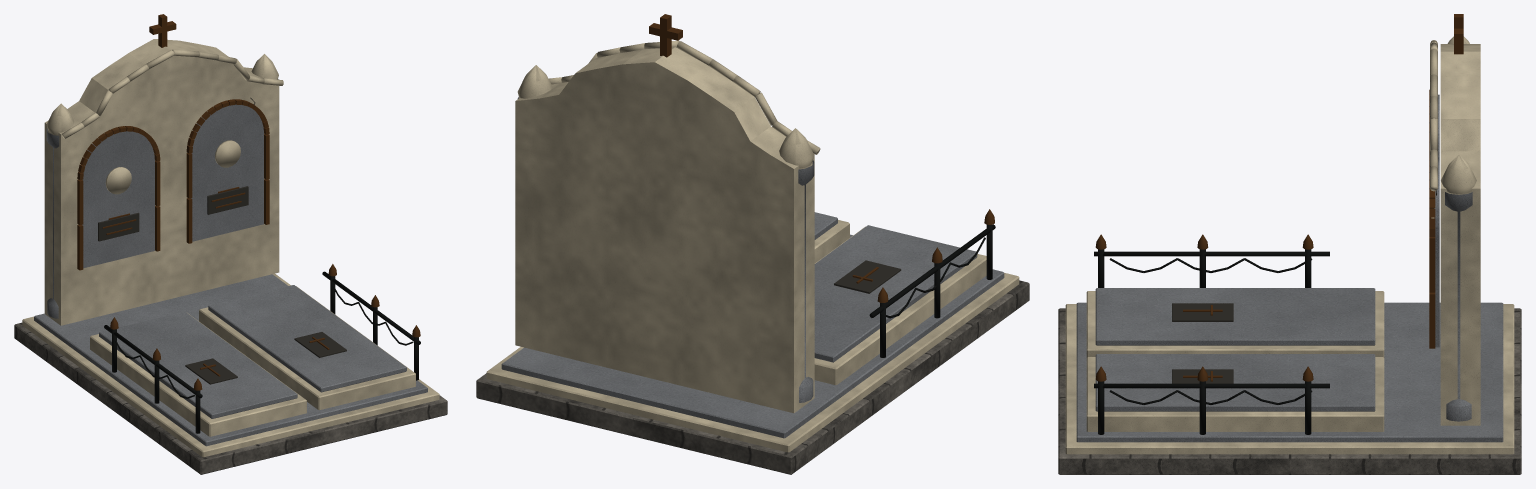
The model's file is tumba_06_familiar_ornamentada.obj.
The picture shows the model from 3 angles, left to right: view 1: azimuth 30°, elevation 25°; view 2: azimuth 150°, elevation 25°; view 3: azimuth 270°, elevation 25°; orthographic projection. The views are drawn at different scales.
Parts seen in each view (by area): view 1: Tumba_06_Familiar_Ornamentada; view 2: Tumba_06_Familiar_Ornamentada; view 3: Tumba_06_Familiar_Ornamentada.
Part boxes in pixels (box(x1,y1,x2,y2)): Tumba_06_Familiar_Ornamentada: box(14, 14, 447, 474); Tumba_06_Familiar_Ornamentada: box(476, 14, 1029, 474); Tumba_06_Familiar_Ornamentada: box(1058, 14, 1521, 474).
Size of the model in its own units: 1.95 by 2.34 by 2.55.
Materials: 6 (3 with a texture image).
